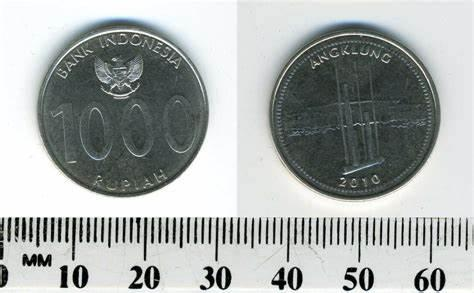coin_1000_e2010: (269, 28, 443, 205), (37, 27, 213, 200)
